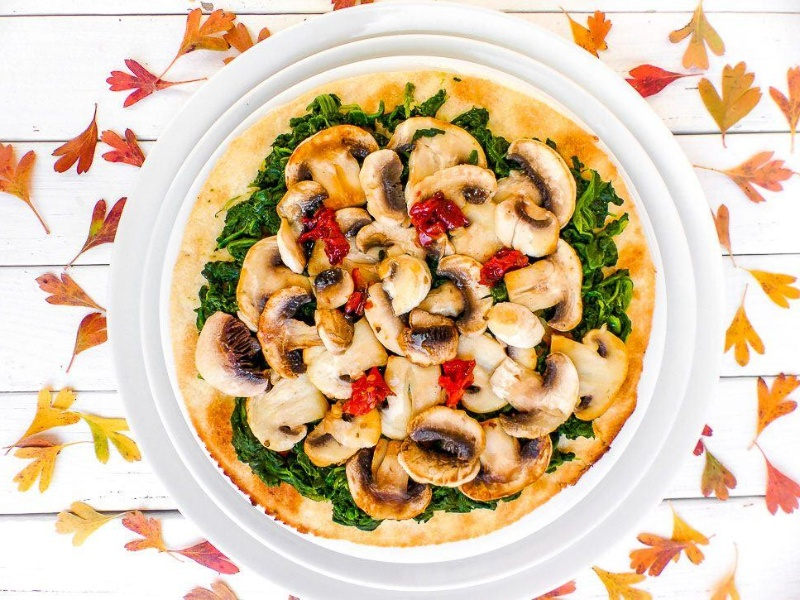champignon: (480, 352, 592, 442), (276, 125, 381, 211), (548, 325, 634, 428), (504, 236, 593, 335), (343, 435, 440, 522), (191, 309, 275, 406), (255, 285, 331, 378), (242, 377, 328, 455), (493, 191, 568, 265), (359, 147, 411, 227), (394, 311, 463, 369)
